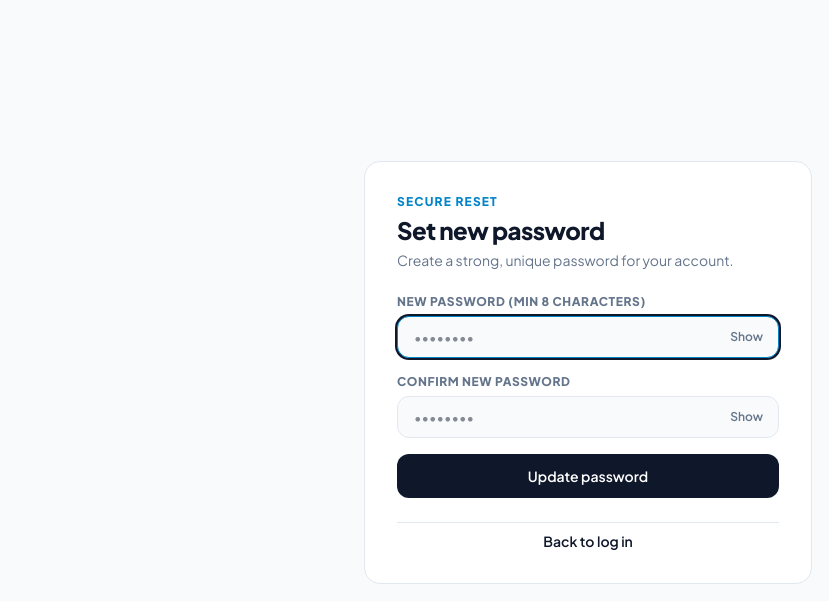
it: Password Reset Flows › success signs out and redirects to /login
Expected: the heading "Set new password" is shown, [397,214,605,244]
Type "BrandNewPassword123" into the password field labelled "New Password (min 8 characters)" at (588, 336), box [397,316,779,358]
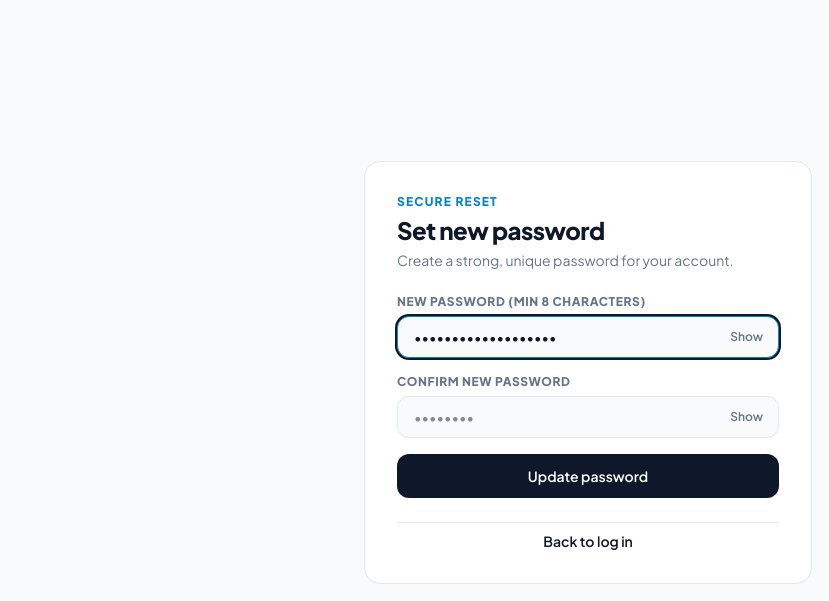
Type "BrandNewPassword123" into the password field labelled "Confirm New Password" at (588, 416), box [397,396,779,438]
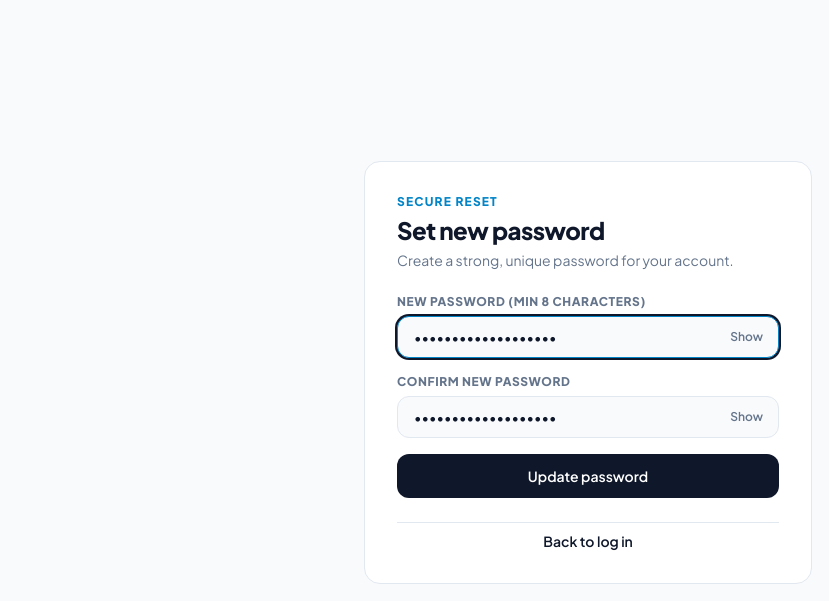
Click the button "Update password" at (588, 476), box [397,454,779,498]
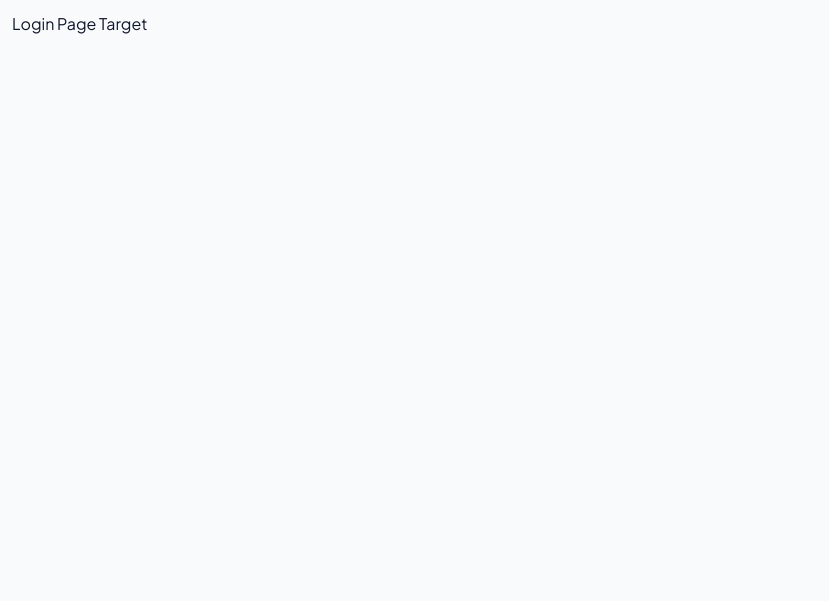
Expected: the text "Login Page Target" is shown, [12,13,148,34]
